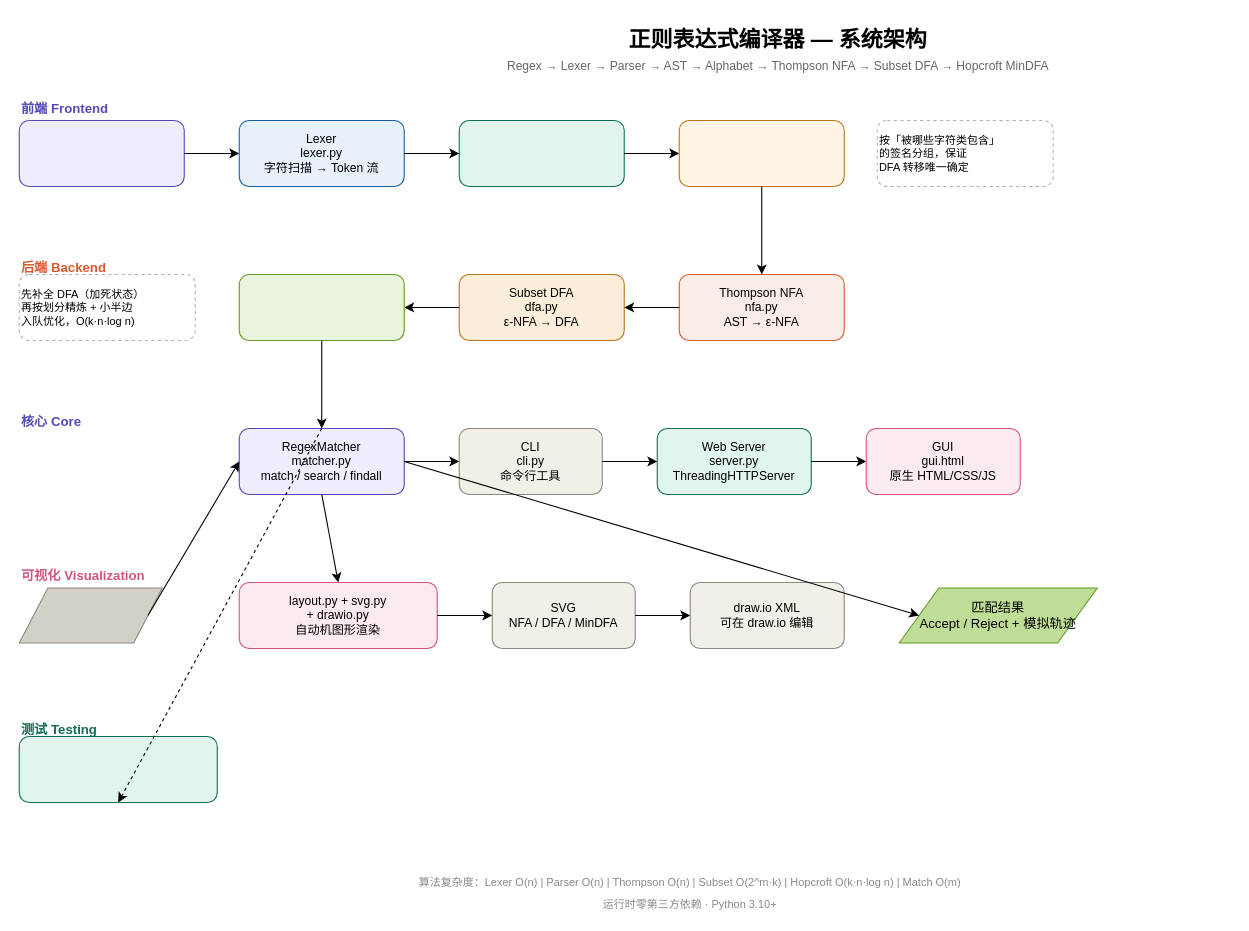
Some shapes in this 1249 by 931 pixel diagram are drawn without their labels. Here are the shapes that lost their labels. From the top down, the centre of each, then its label:
point 101,152: 正则表达式 a(b|c)*d
point 541,152: Parser parser.py 递归下降 → AST
point 761,152: Alphabet charset.py 字符类不相交划分
point 321,306: Hopcroft minimize.py DFA → 最小 DFA
point 90,615: 测试字符串输入
point 117,768: tests/ 113 个用例 含与 Python re 的差分对拍
